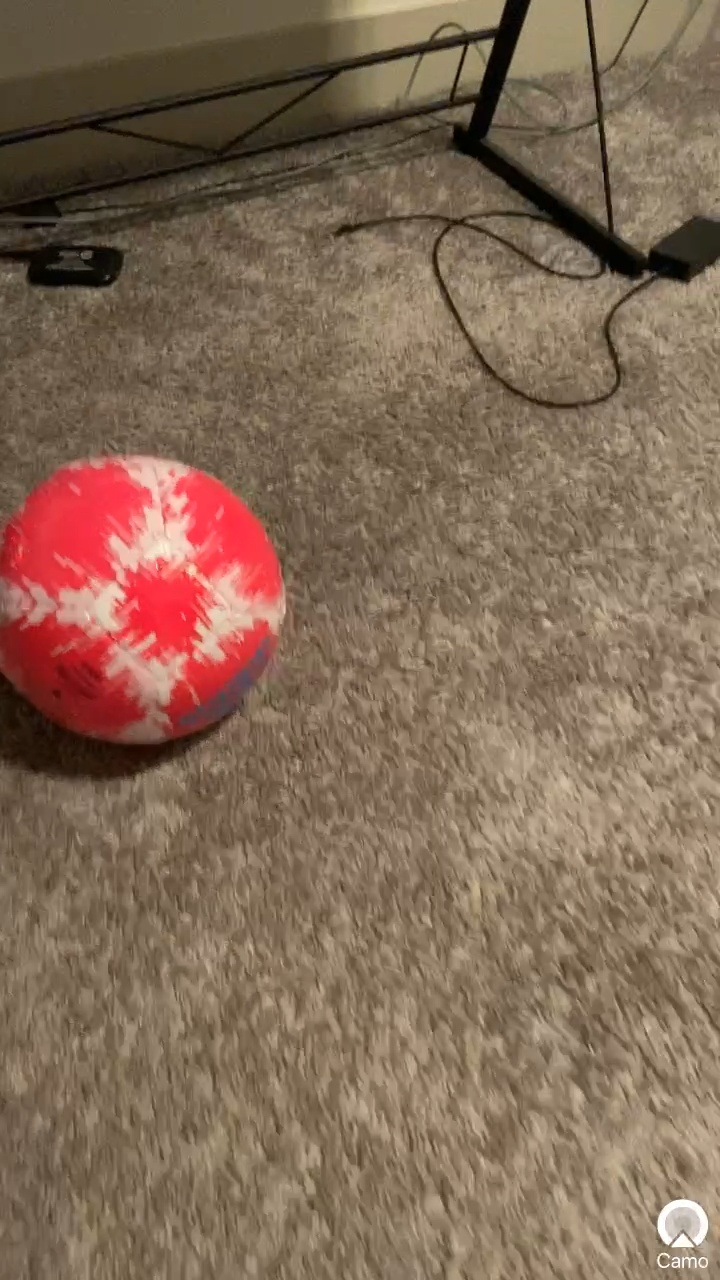Soccer_Ball: (9, 435, 312, 775)
